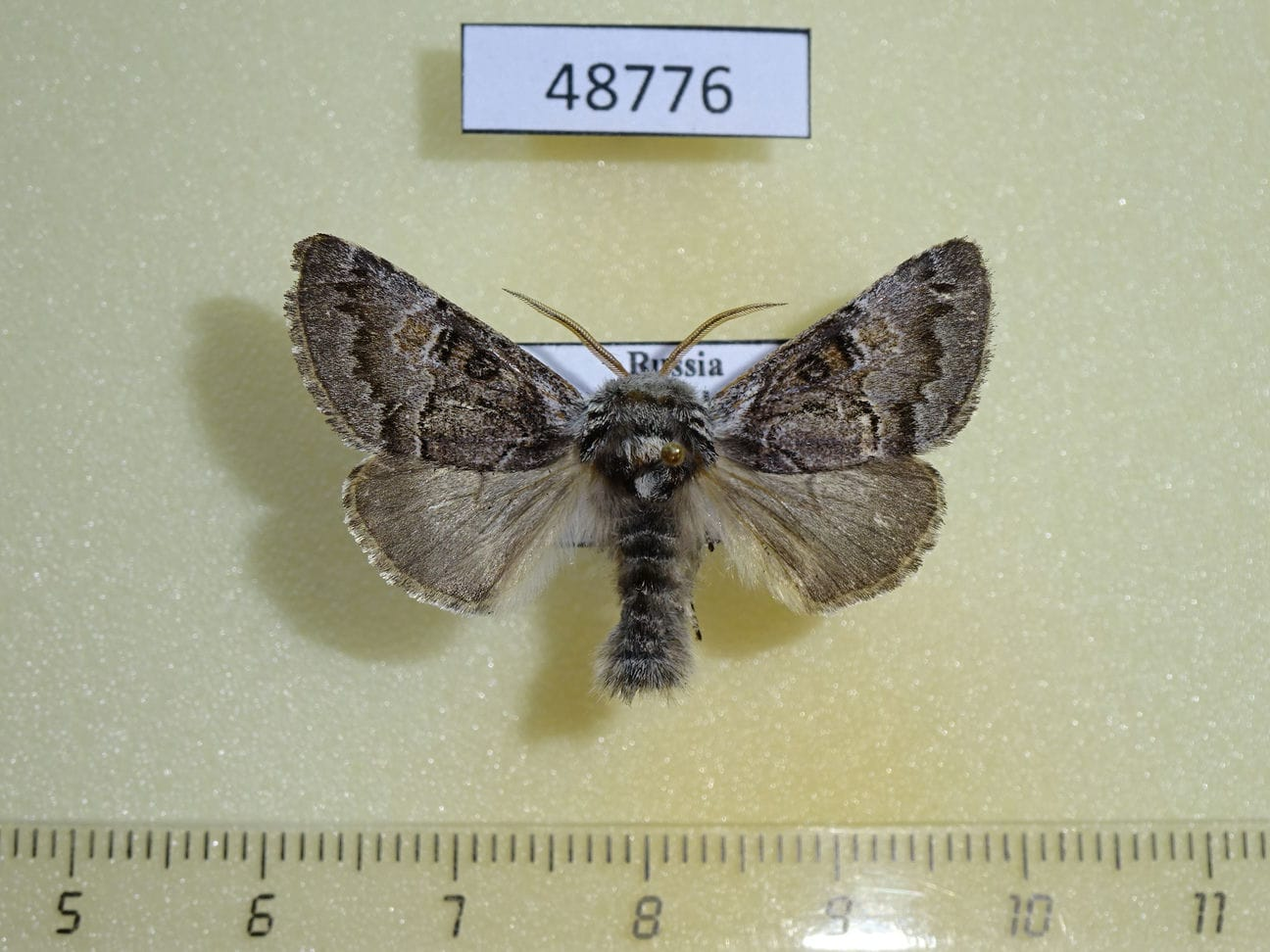Noctuidae: (280, 237, 994, 704)
